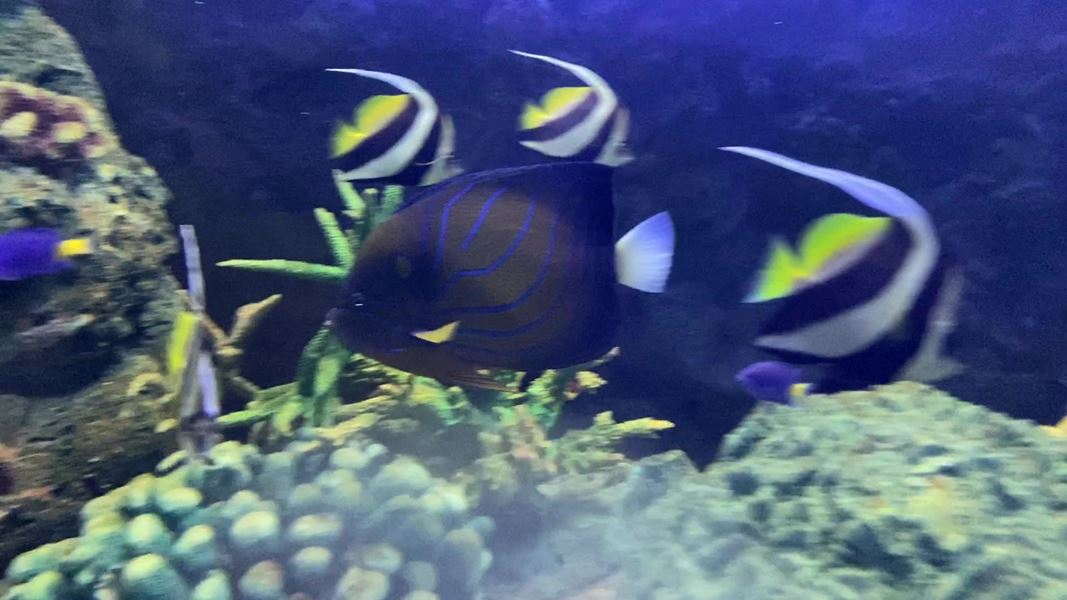Blue ring angelfish: (294, 150, 698, 415)
